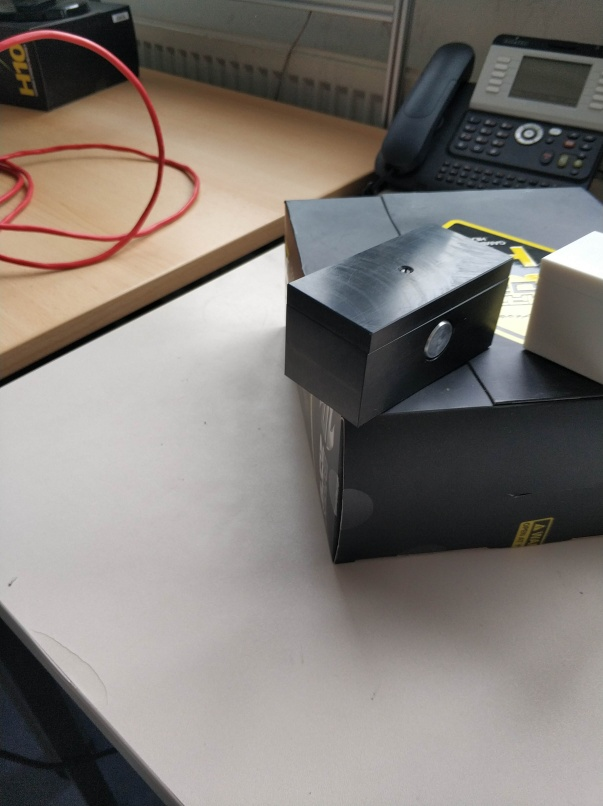black+black+silver: (276, 221, 520, 429)
